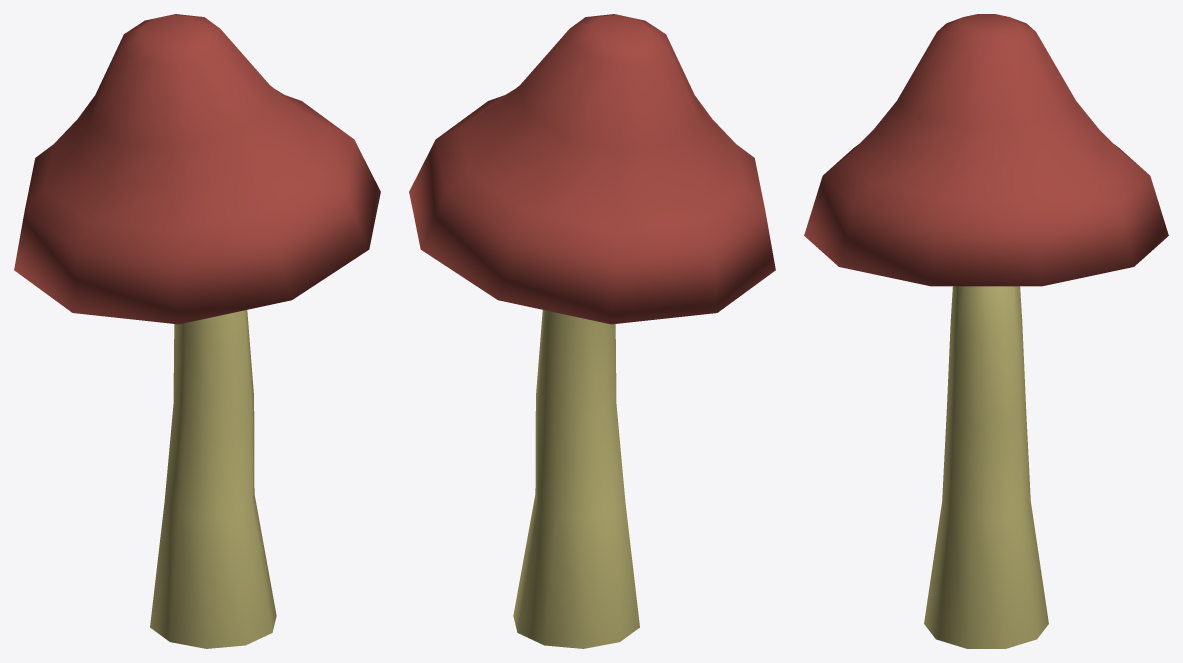
The model's file is Mushroom_Brown_Cone_2.fbx.
3 views of the same model, side by side, from view 1: azimuth 30°, elevation 25°; view 2: azimuth 150°, elevation 25°; view 3: azimuth 270°, elevation 25° (orthographic). The views are drawn at different scales.
Visible parts, largest first — view 1: Cylinder.277, Cylinder.278; view 2: Cylinder.277, Cylinder.278; view 3: Cylinder.277, Cylinder.278.
Boxes of the visible parts, <box> form: Cylinder.277: <box>14,14,380,324</box>; Cylinder.278: <box>150,310,276,648</box>; Cylinder.277: <box>409,14,775,324</box>; Cylinder.278: <box>513,310,639,648</box>; Cylinder.277: <box>804,14,1168,286</box>; Cylinder.278: <box>924,286,1048,648</box>.
Bounding box in the file's own units: 71.88 × 135 × 76.34.
